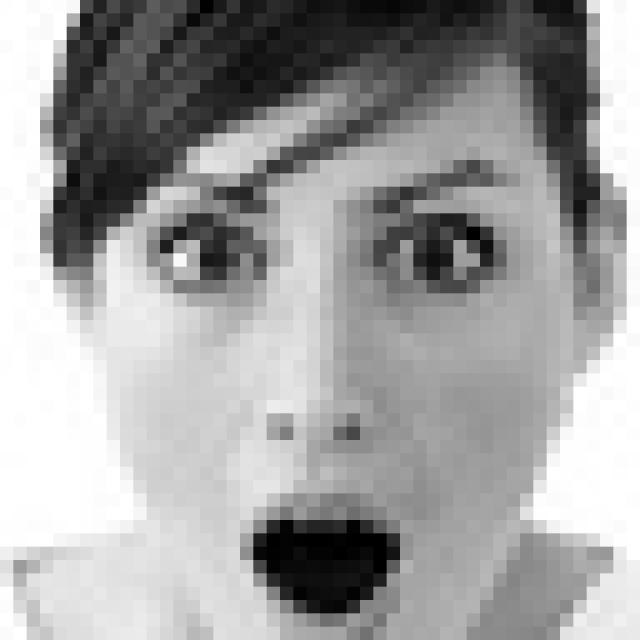surprise: (140, 151, 515, 640)
